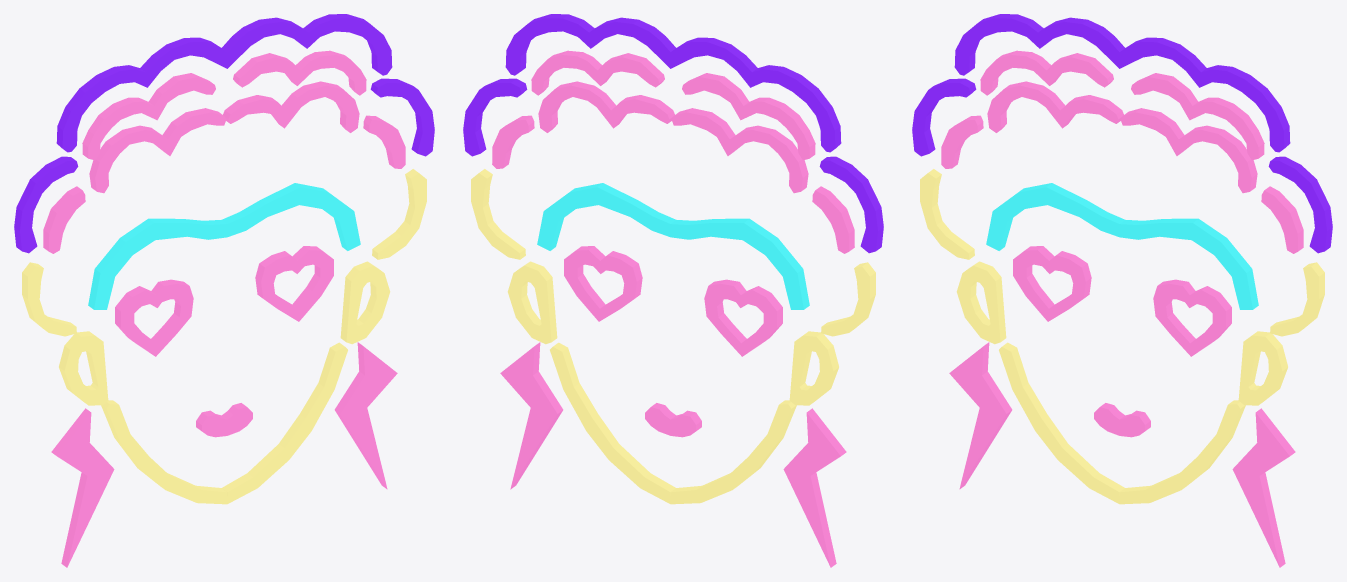
The model's file is neon-sign-girl-earrings.glb.
3 renders of one model, left to right at view 1: azimuth 30°, elevation 25°; view 2: azimuth 150°, elevation 25°; view 3: azimuth 330°, elevation 25°, orthographic.
Parts seen in each view (by area): view 1: sign; view 2: sign; view 3: sign.
Part boxes in pixels (left/top/right/bottom): sign: left=14, top=14, right=434, bottom=567; sign: left=463, top=14, right=883, bottom=567; sign: left=912, top=14, right=1332, bottom=567.
Size of what is drawn, in the model's own units: 0.8828 by 1.01 by 0.0215.
